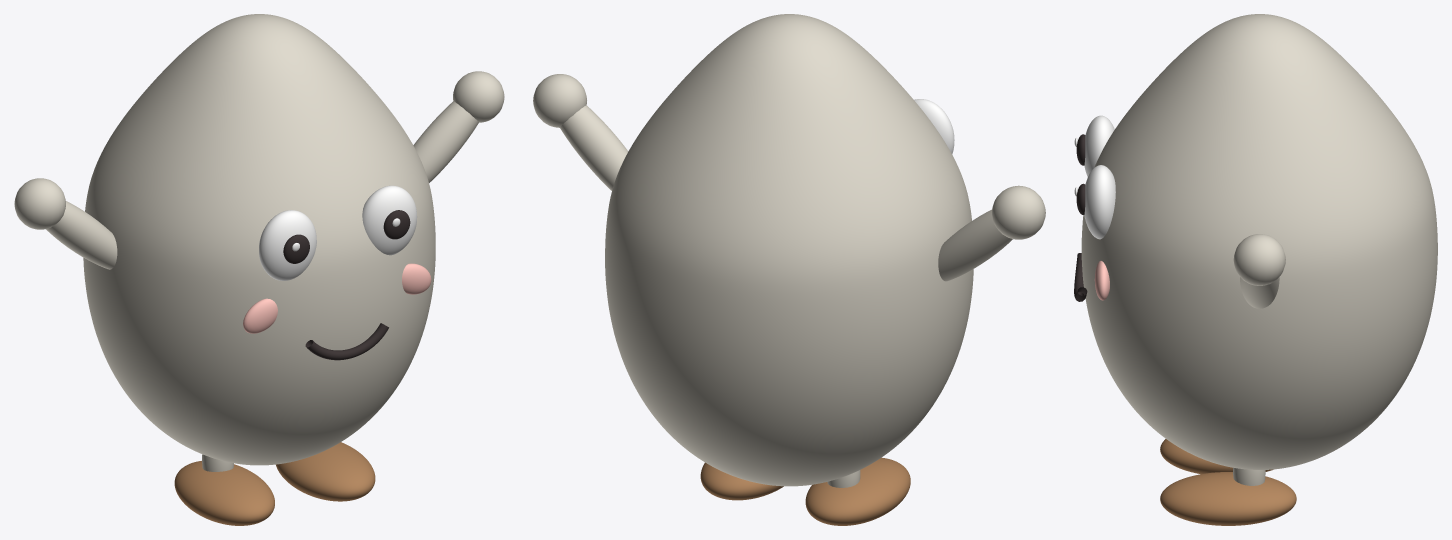
The model's file is eggman.glb.
3 renders of one model, left to right at view 1: azimuth 30°, elevation 25°; view 2: azimuth 150°, elevation 25°; view 3: azimuth 270°, elevation 25°, orthographic. The views are drawn at different scales.
Visible parts, largest first — view 1: L3_Body, L3_Shoe_L, L3_Shoe_R, L3_Arm_R, L3_Eye_L, L3_Arm_L, L3_Eye_R, L3_Hand_L, L3_Hand_R, L3_Smile, L3_Blush_L, L3_Blush_R (+2 smaller); view 2: L3_Body, L3_Shoe_L, L3_Arm_R, L3_Arm_L, L3_Hand_L, L3_Hand_R, L3_Shoe_R, L3_Eye_L; view 3: L3_Body, L3_Shoe_R, L3_Hand_R, L3_Eye_R, L3_Shoe_L, L3_Eye_L, L3_Arm_R, L3_Leg_R, L3_Blush_R.
Part boxes in pixels (left/top/right/bottom): L3_Body: left=83, top=14, right=435, bottom=465; L3_Shoe_L: left=174, top=461, right=274, bottom=525; L3_Shoe_R: left=276, top=442, right=375, bottom=501; L3_Arm_R: left=413, top=101, right=478, bottom=182; L3_Eye_L: left=259, top=210, right=316, bottom=280; L3_Arm_L: left=46, top=201, right=117, bottom=269; L3_Eye_R: left=362, top=185, right=417, bottom=255; L3_Hand_L: left=14, top=178, right=65, bottom=229; L3_Hand_R: left=453, top=71, right=504, bottom=122; L3_Smile: left=305, top=323, right=388, bottom=360; L3_Blush_L: left=243, top=298, right=277, bottom=333; L3_Blush_R: left=402, top=263, right=431, bottom=294; L3_Body: left=605, top=14, right=973, bottom=486; L3_Shoe_L: left=805, top=457, right=910, bottom=525; L3_Arm_R: left=560, top=105, right=628, bottom=190; L3_Arm_L: left=938, top=209, right=1012, bottom=281; L3_Hand_L: left=992, top=185, right=1045, bottom=239; L3_Hand_R: left=533, top=74, right=586, bottom=127; L3_Shoe_R: left=700, top=462, right=783, bottom=500; L3_Eye_L: left=914, top=99, right=954, bottom=154; L3_Body: left=1081, top=14, right=1437, bottom=469; L3_Shoe_R: left=1160, top=472, right=1296, bottom=525; L3_Hand_R: left=1233, top=234, right=1285, bottom=285; L3_Eye_R: left=1084, top=165, right=1115, bottom=239; L3_Shoe_L: left=1160, top=439, right=1273, bottom=474; L3_Eye_L: left=1084, top=115, right=1114, bottom=176; L3_Arm_R: left=1240, top=277, right=1279, bottom=308; L3_Leg_R: left=1233, top=468, right=1265, bottom=485; L3_Blush_R: left=1094, top=261, right=1109, bottom=300.
Bounding box in the file's own units: 2.7 × 2.5 × 1.74.
